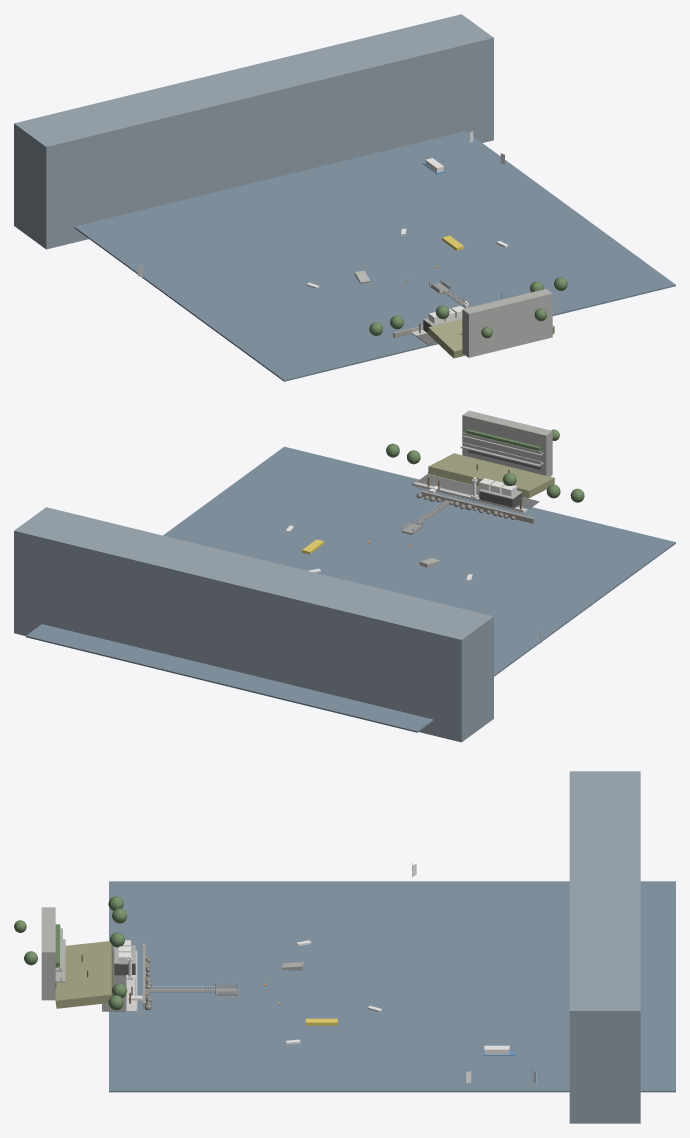
3 views of the same model, one above another, from view 1: azimuth 30°, elevation 25°; view 2: azimuth 150°, elevation 25°; view 3: azimuth 270°, elevation 25° (orthographic). The views are drawn at different scales.
Visible parts, largest first — view 1: Water_Lake, Lake_Mountains, Bldg_MainWall, Lawn_Slope; view 2: Lake_Mountains, Water_Lake, Bldg_MainWall, Lawn_Slope, Road_Surface, Shoreline_Wall; view 3: Water_Lake, Lake_Mountains, Lawn_Slope, Bldg_MainWall.
Part boxes in pixels (box(x1,y1,x2,y2)): Water_Lake: box(74, 131, 675, 381); Lake_Mountains: box(14, 14, 493, 249); Bldg_MainWall: box(462, 289, 552, 357); Lawn_Slope: box(428, 319, 554, 358); Lake_Mountains: box(14, 507, 493, 742); Water_Lake: box(25, 446, 675, 732); Bldg_MainWall: box(462, 410, 552, 476); Lawn_Slope: box(428, 453, 554, 498); Road_Surface: box(417, 474, 539, 509); Shoreline_Wall: box(421, 491, 534, 523); Water_Lake: box(109, 881, 675, 1092); Lake_Mountains: box(569, 771, 640, 1123); Lawn_Slope: box(55, 941, 112, 1008); Bldg_MainWall: box(41, 907, 55, 1000).
Size of the model in its own units: 160 by 35 by 187.
